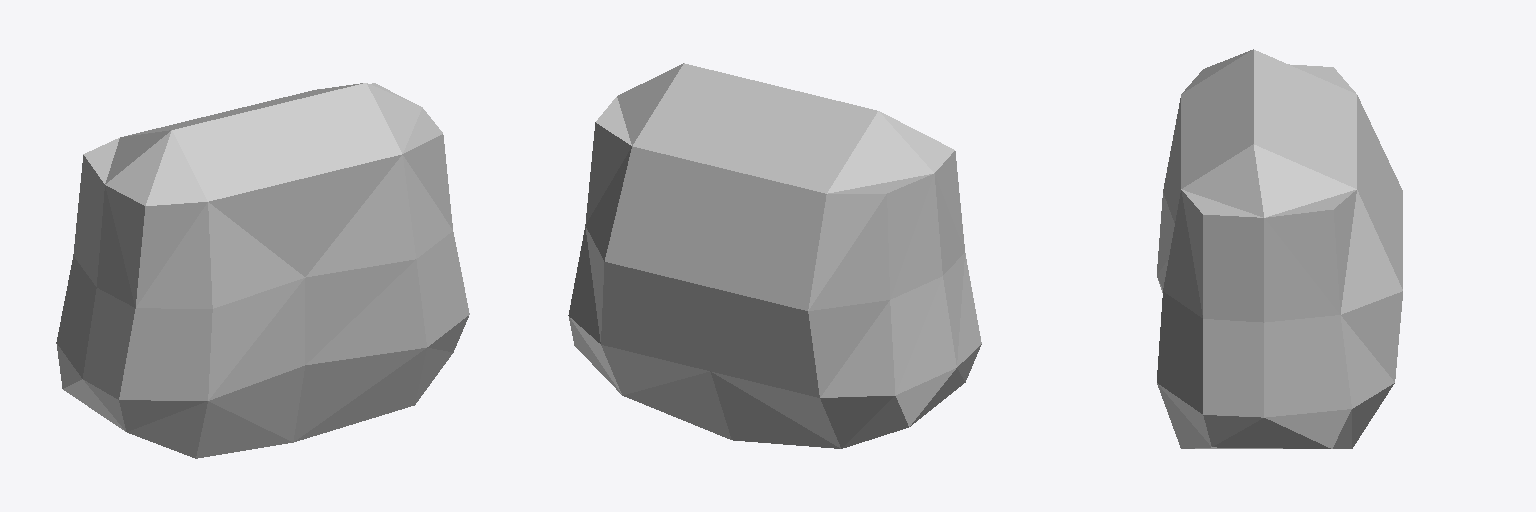
File: bodyUnder.obj
3 views of the same model, side by side, from view 1: azimuth 30°, elevation 25°; view 2: azimuth 150°, elevation 25°; view 3: azimuth 270°, elevation 25° (orthographic).
Parts seen in each view (by area): view 1: pCube6; view 2: pCube6; view 3: pCube6.
Part boxes in pixels (x1,y1,x2,y2): pCube6: (56, 83, 469, 458); pCube6: (568, 63, 981, 448); pCube6: (1157, 49, 1402, 448).
Bounding box in the file's own units: 9.89 × 8.31 × 5.83.